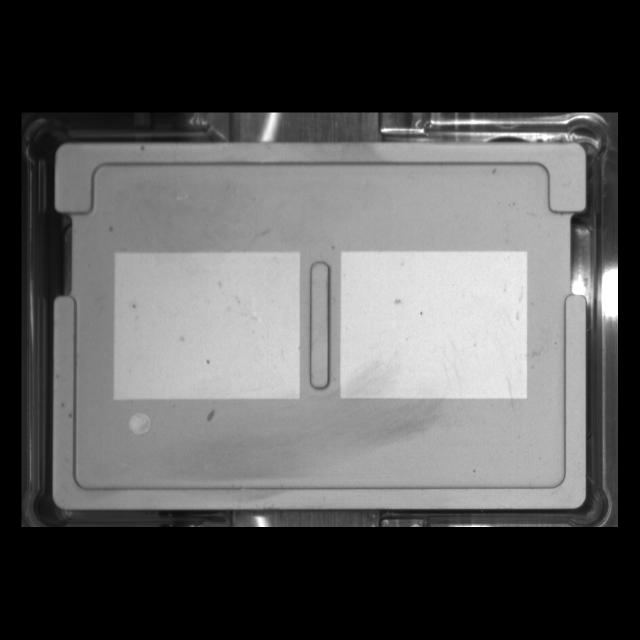door: (46, 135, 593, 226)
point: (120, 407, 160, 444)
